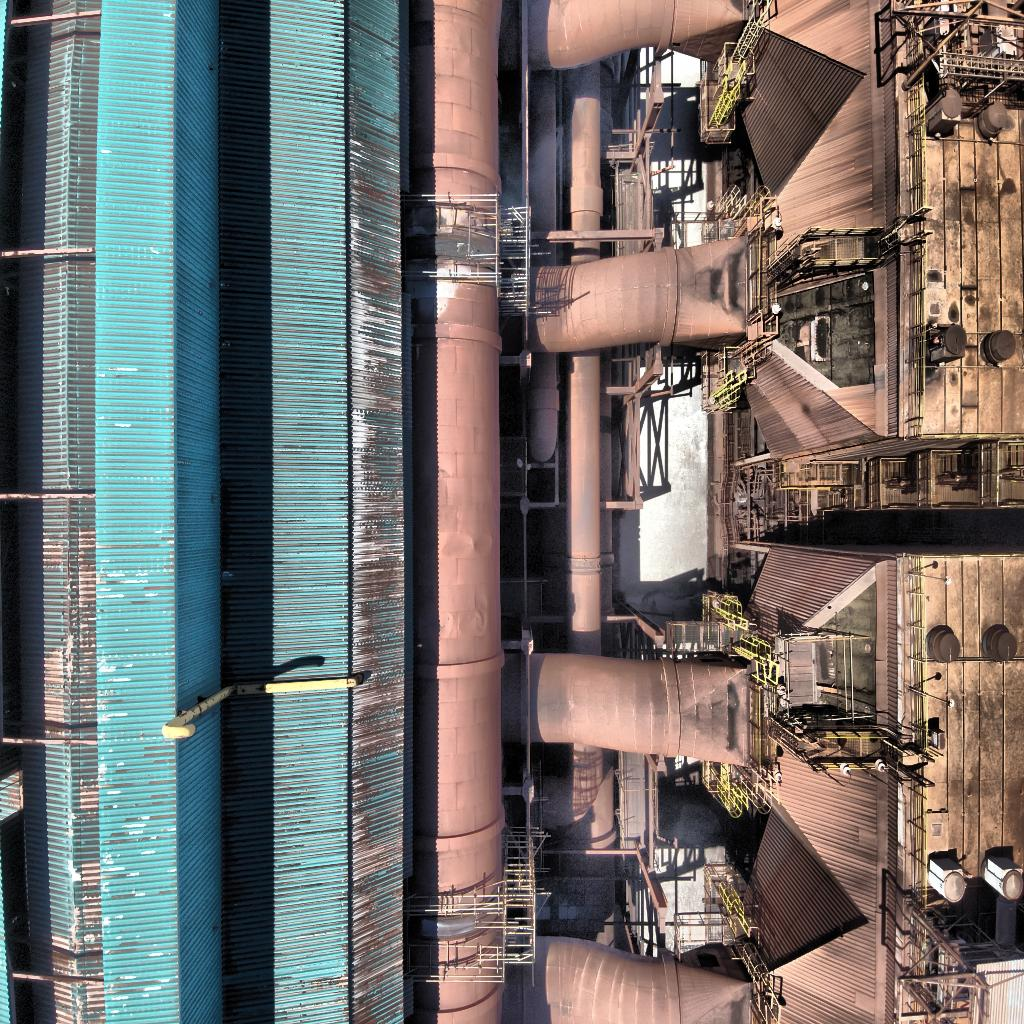Failures: (759, 274, 882, 392), (808, 578, 887, 749)
